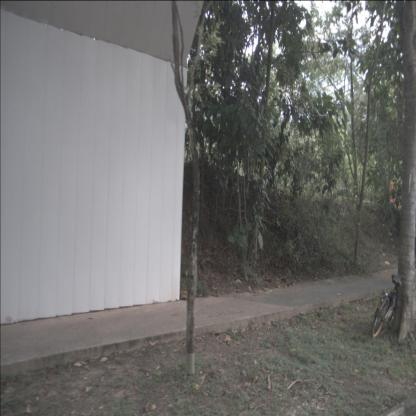vehicle-bicycle: (371, 260, 416, 338)
